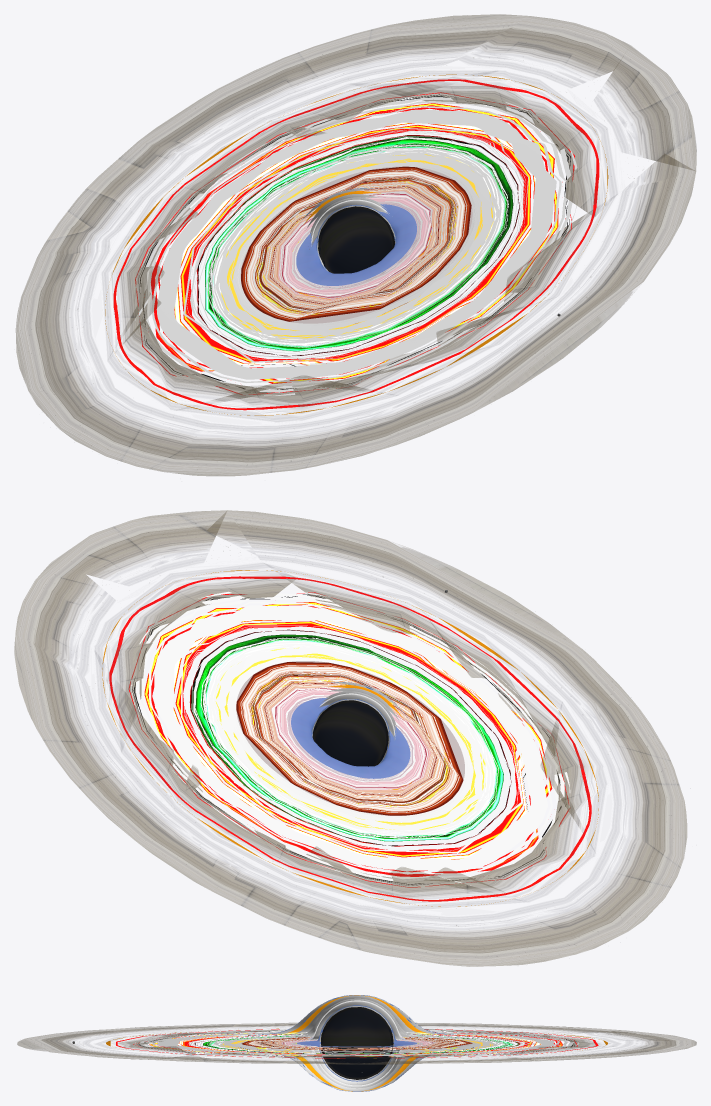
Rendered from black_hole.glb.
The picture shows the model from 3 angles, top to bottom: view 1: azimuth 30°, elevation 25°; view 2: azimuth 150°, elevation 25°; view 3: azimuth 270°, elevation 25°; orthographic projection. The views are drawn at different scales.
Size of what is drawn, in the model's own units: 3067 by 1207 by 3292.
8 materials, 7 textured.
